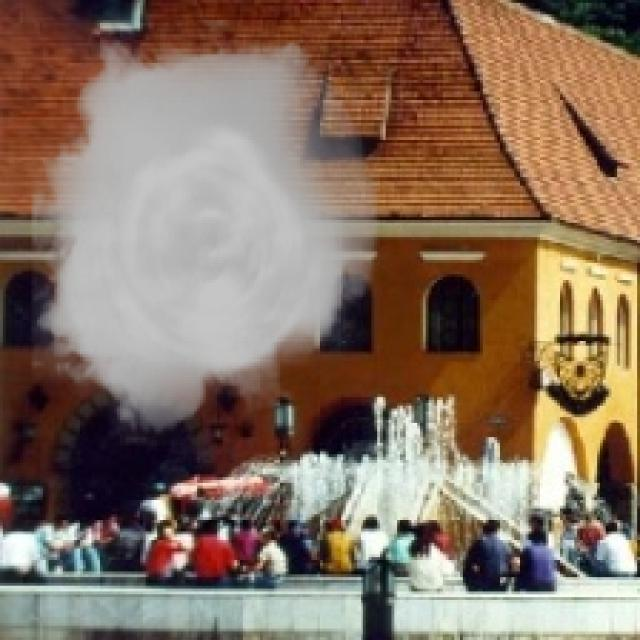Smoke: (31, 20, 380, 446)
